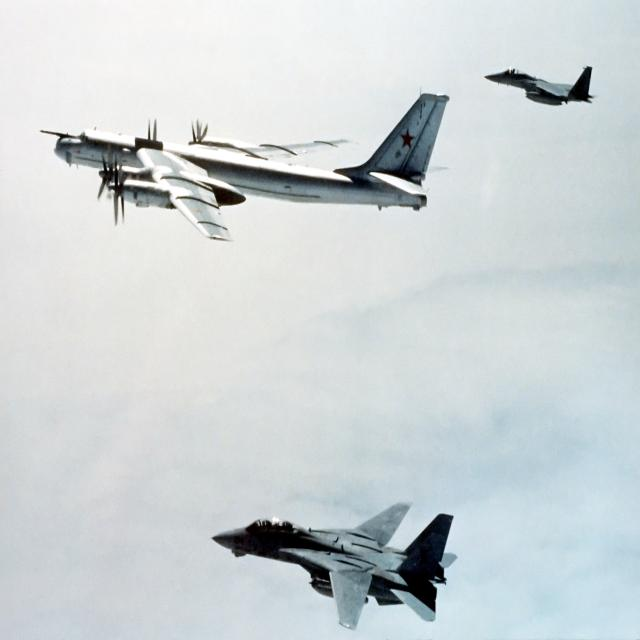MIL_Plane: (39, 86, 450, 243), (209, 502, 457, 631), (484, 66, 600, 108)
